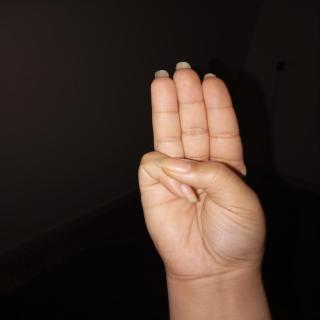THA: (132, 56, 270, 292)
